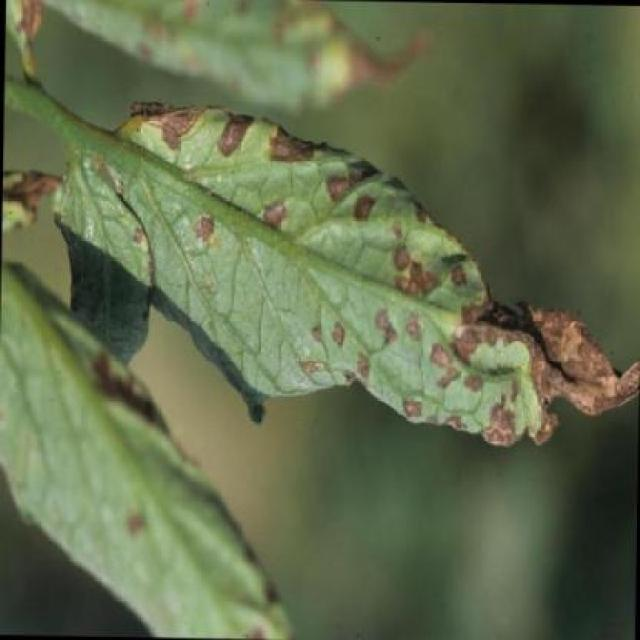Tomato leaf bacterial spot: (54, 88, 637, 463)
